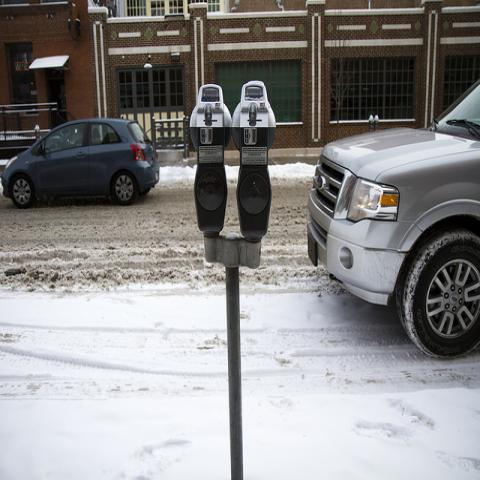car: (297, 75, 479, 358), (2, 121, 161, 205)
